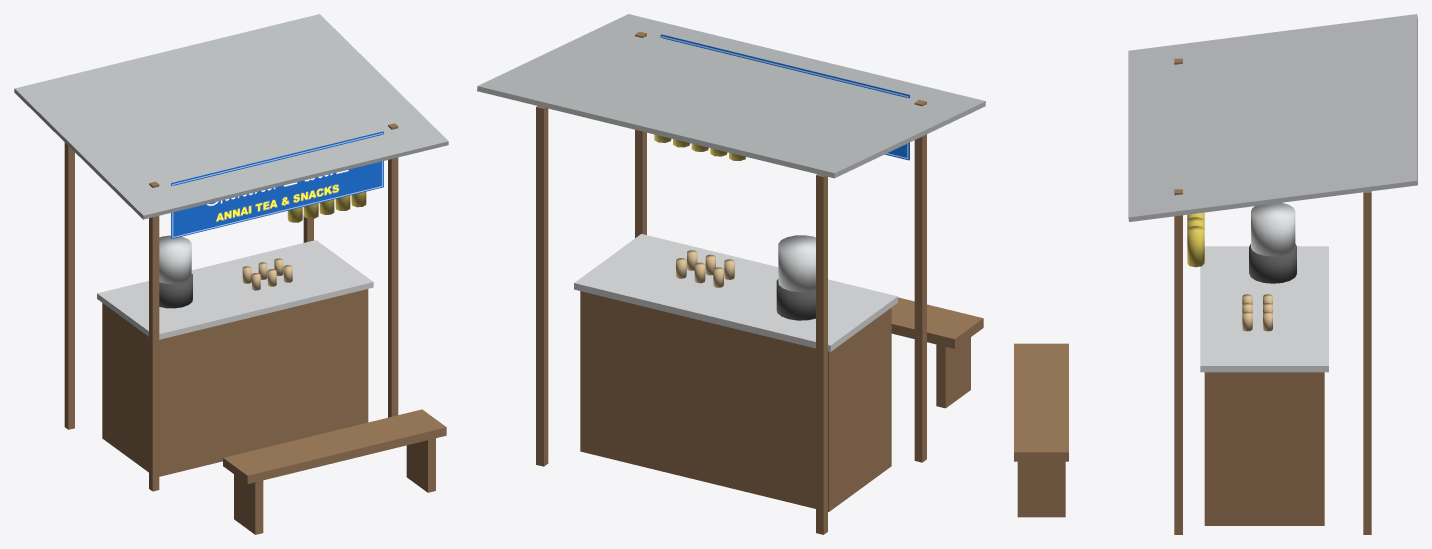
Rendered from life_stall1.glb.
The picture shows the model from 3 angles, left to right: view 1: azimuth 30°, elevation 25°; view 2: azimuth 150°, elevation 25°; view 3: azimuth 270°, elevation 25°; orthographic projection. The views are drawn at different scales.
Visible parts, largest first — view 1: Counter; view 2: Counter; view 3: Counter.
Part boxes in pixels (<box>): Counter: <box>14,14,448,534</box>; Counter: <box>477,14,985,534</box>; Counter: <box>1014,14,1417,534</box>.
Bounding box in the file's own units: 2.3 × 2.38 × 2.35.
Materials: 7 (1 with a texture image).
